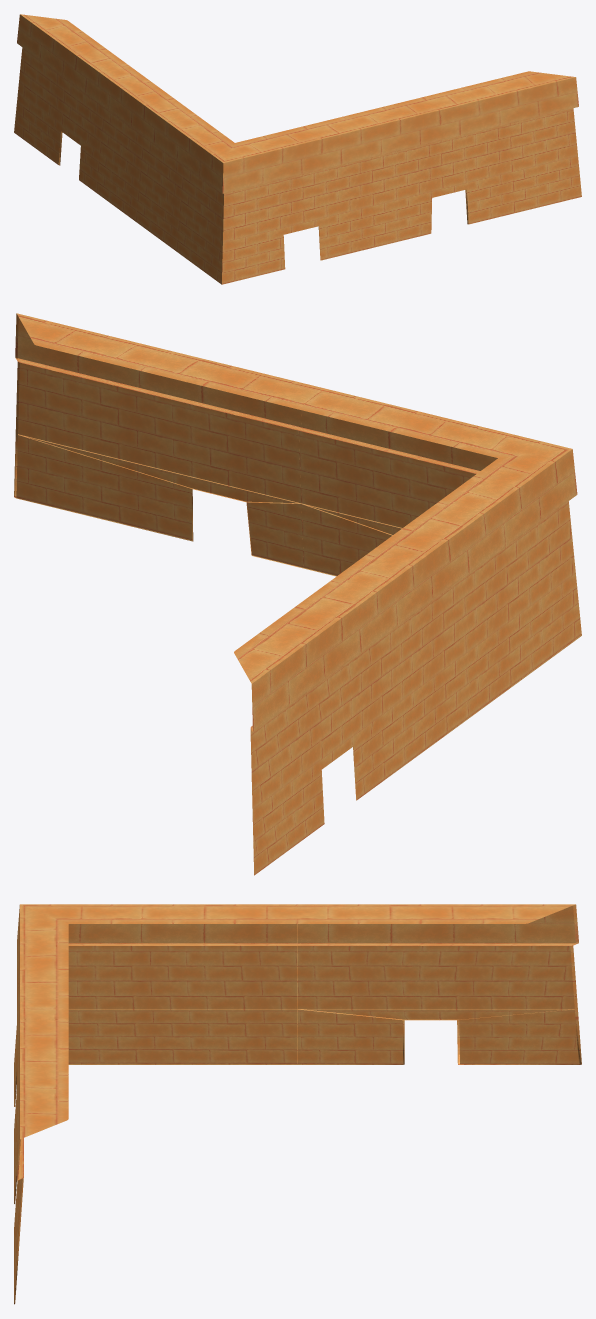
File: TempleFloor02_Cut.001.glb
The picture shows the model from 3 angles, top to bottom: view 1: azimuth 30°, elevation 25°; view 2: azimuth 150°, elevation 25°; view 3: azimuth 270°, elevation 25°; orthographic projection. The views are drawn at different scales.
Visible parts, largest first — view 1: TempleFloor02_Cut.001; view 2: TempleFloor02_Cut.001; view 3: TempleFloor02_Cut.001.
Boxes of the visible parts, x1,y1,x2,y2 form: TempleFloor02_Cut.001: (14,14,581,284); TempleFloor02_Cut.001: (14,313,581,875); TempleFloor02_Cut.001: (14,904,581,1304).
Bounding box in the file's own units: 54.81 × 17.32 × 54.79.
2 materials, 2 textured.
